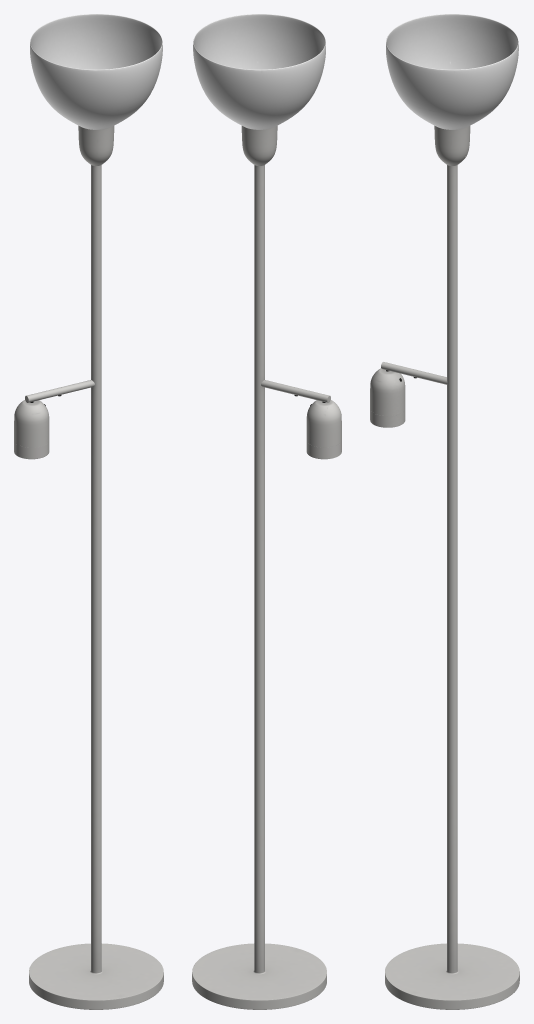
File: Lamp_006.gltf
3 renders of one model, left to right at view 1: azimuth 30°, elevation 25°; view 2: azimuth 150°, elevation 25°; view 3: azimuth 330°, elevation 25°, orthographic.
Parts seen in each view (by area): view 1: Lamp_06; view 2: Lamp_06; view 3: Lamp_06.
Part boxes in pixels (x1,y1,x2,y2): Lamp_06: [14, 14, 163, 1009]; Lamp_06: [192, 14, 341, 1009]; Lamp_06: [370, 14, 519, 1009].
Size of the model in its own units: 0.2718 by 1.76 by 0.2297.
1 material, 1 textured.
